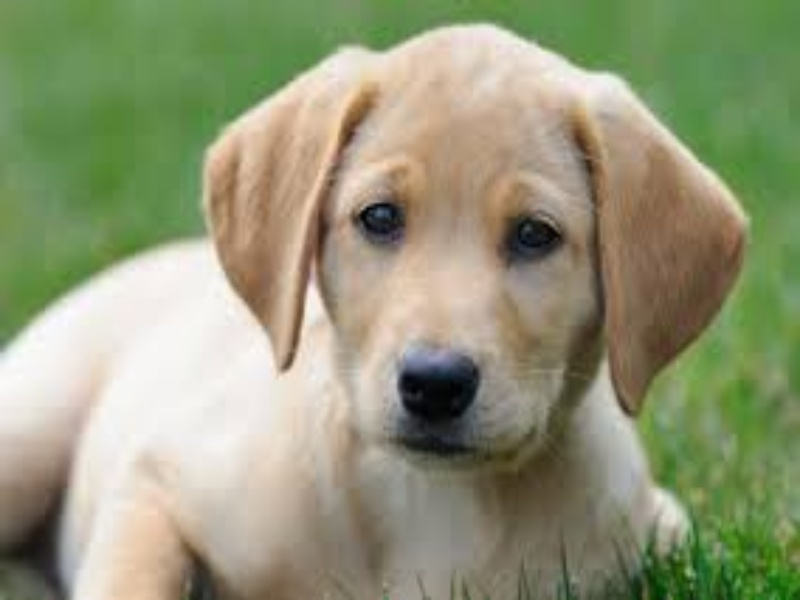dog: (24, 20, 738, 571)
